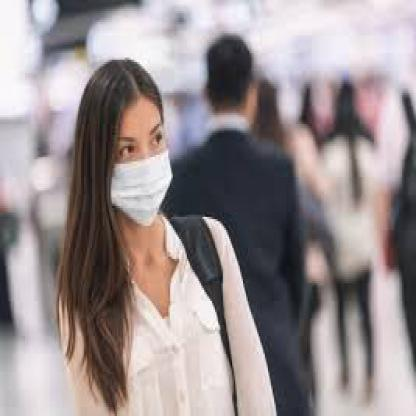Wearing_Mask: (90, 86, 176, 235)
